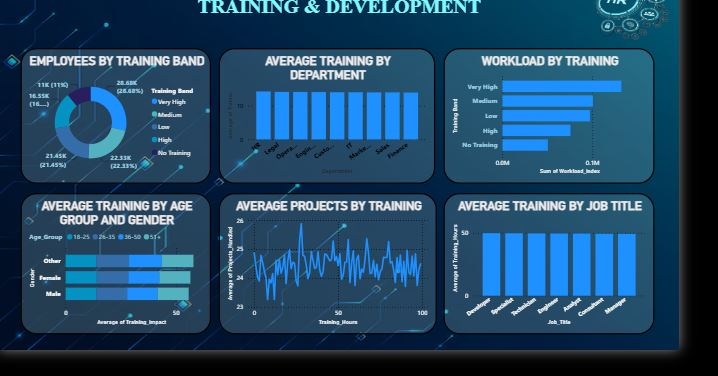

The dashboard page shown, as its layout file describes it:
{"tool":"powerbi","page":{"name":"Train & Develop","canvas":[1280,720],"ordinal":5},"visuals":[{"type":"image","box":[1000.4,0,280.1,144.3],"z":0},{"type":"textbox","box":[369.2,46.3,592.8,74.5],"z":1000},{"type":"columnChart","title":"AVERAGE TRAINING BY DEPARTMENT","fields":{"Category":["cleaned_HR_analytics.Department"],"Y":["Avg(cleaned_HR_analytics.Training_Impact)"]},"box":[414.4,152.4,406.5,255.2],"z":2000},{"type":"barChart","title":"AVERAGE TRAINING BY AGE GROUP AND GENDER","fields":{"Y":["Avg(cleaned_HR_analytics.Training_Impact)"],"Series":["cleaned_HR_analytics.Age_Group"],"Category":["cleaned_HR_analytics.Gender"]},"box":[42.9,425.7,357.9,265.4],"z":3000},{"type":"donutChart","title":"EMPLOYEES BY TRAINING BAND","fields":{"Category":["cleaned_HR_analytics.Training Band"],"Y":["CountNonNull(cleaned_HR_analytics.Employee_ID)"]},"box":[42.9,152.4,357.9,255.2],"z":4000},{"type":"lineChart","title":"AVERAGE PROJECTS BY TRAINING","fields":{"Category":["cleaned_HR_analytics.Training_Hours"],"Y":["Avg(cleaned_HR_analytics.Projects_Handled)"]},"box":[414.4,425.7,409.9,265.4],"z":5000},{"type":"barChart","title":"WORKLOAD BY TRAINING","fields":{"Category":["cleaned_HR_analytics.Training Band"],"Y":["Sum(cleaned_HR_analytics.Workload_Index)"]},"box":[836.7,152.4,396.3,255.2],"z":6000},{"type":"columnChart","title":"AVERAGE TRAINING BY JOB TITLE","fields":{"Category":["cleaned_HR_analytics.Job_Title"],"Y":["Avg(cleaned_HR_analytics.Training_Hours)"]},"box":[836.7,425.7,396.3,265.4],"z":7000}]}

Visuals, with their boxes on the page's 1280x720 design canvas (x1, y1, x2, y2). These are canvas units, not pixel positions in the 718x376 screenshot, which may show the page scaled, cropped or inside an application window:
image: l=1000, t=0, r=1280, b=144
textbox: l=369, t=46, r=962, b=121
"AVERAGE TRAINING BY DEPARTMENT" columnChart: l=414, t=152, r=821, b=408
"AVERAGE TRAINING BY AGE GROUP AND GENDER" barChart: l=43, t=426, r=401, b=691
"EMPLOYEES BY TRAINING BAND" donutChart: l=43, t=152, r=401, b=408
"AVERAGE PROJECTS BY TRAINING" lineChart: l=414, t=426, r=824, b=691
"WORKLOAD BY TRAINING" barChart: l=837, t=152, r=1233, b=408
"AVERAGE TRAINING BY JOB TITLE" columnChart: l=837, t=426, r=1233, b=691
